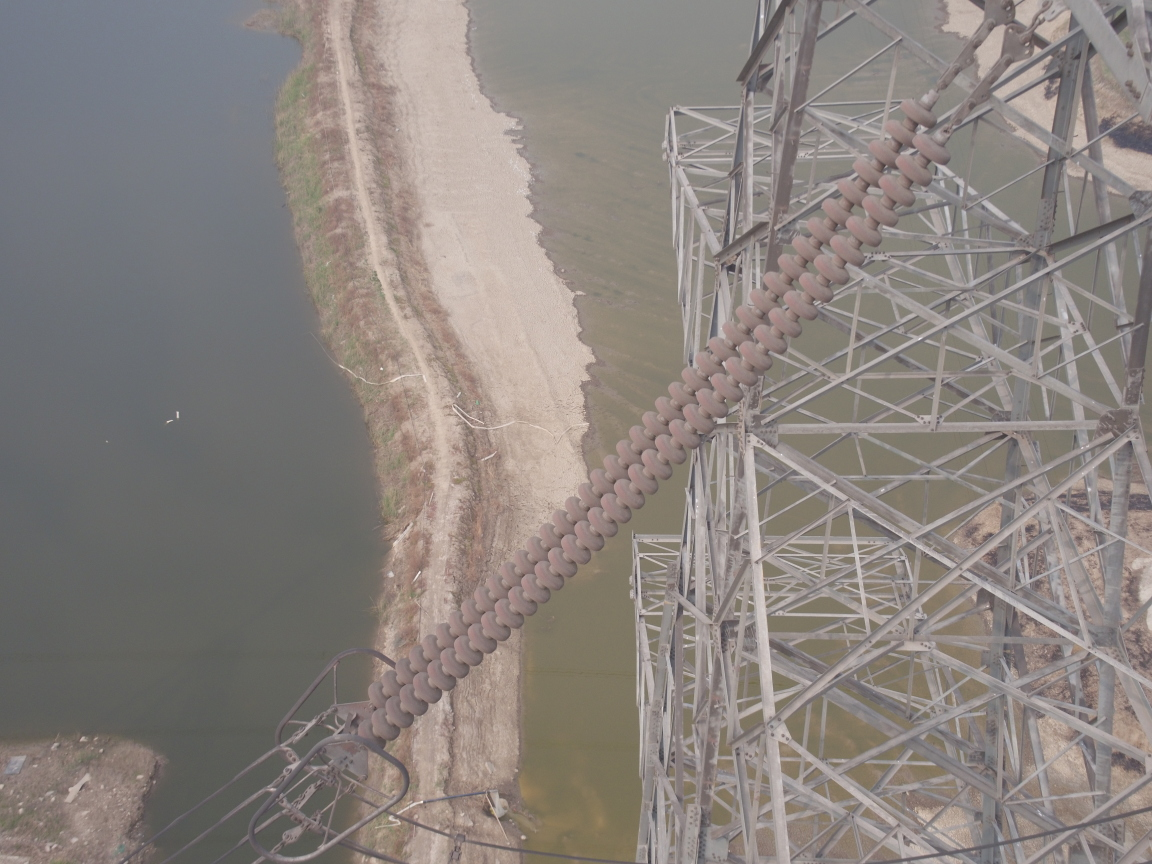insulator: (342, 67, 987, 756)
